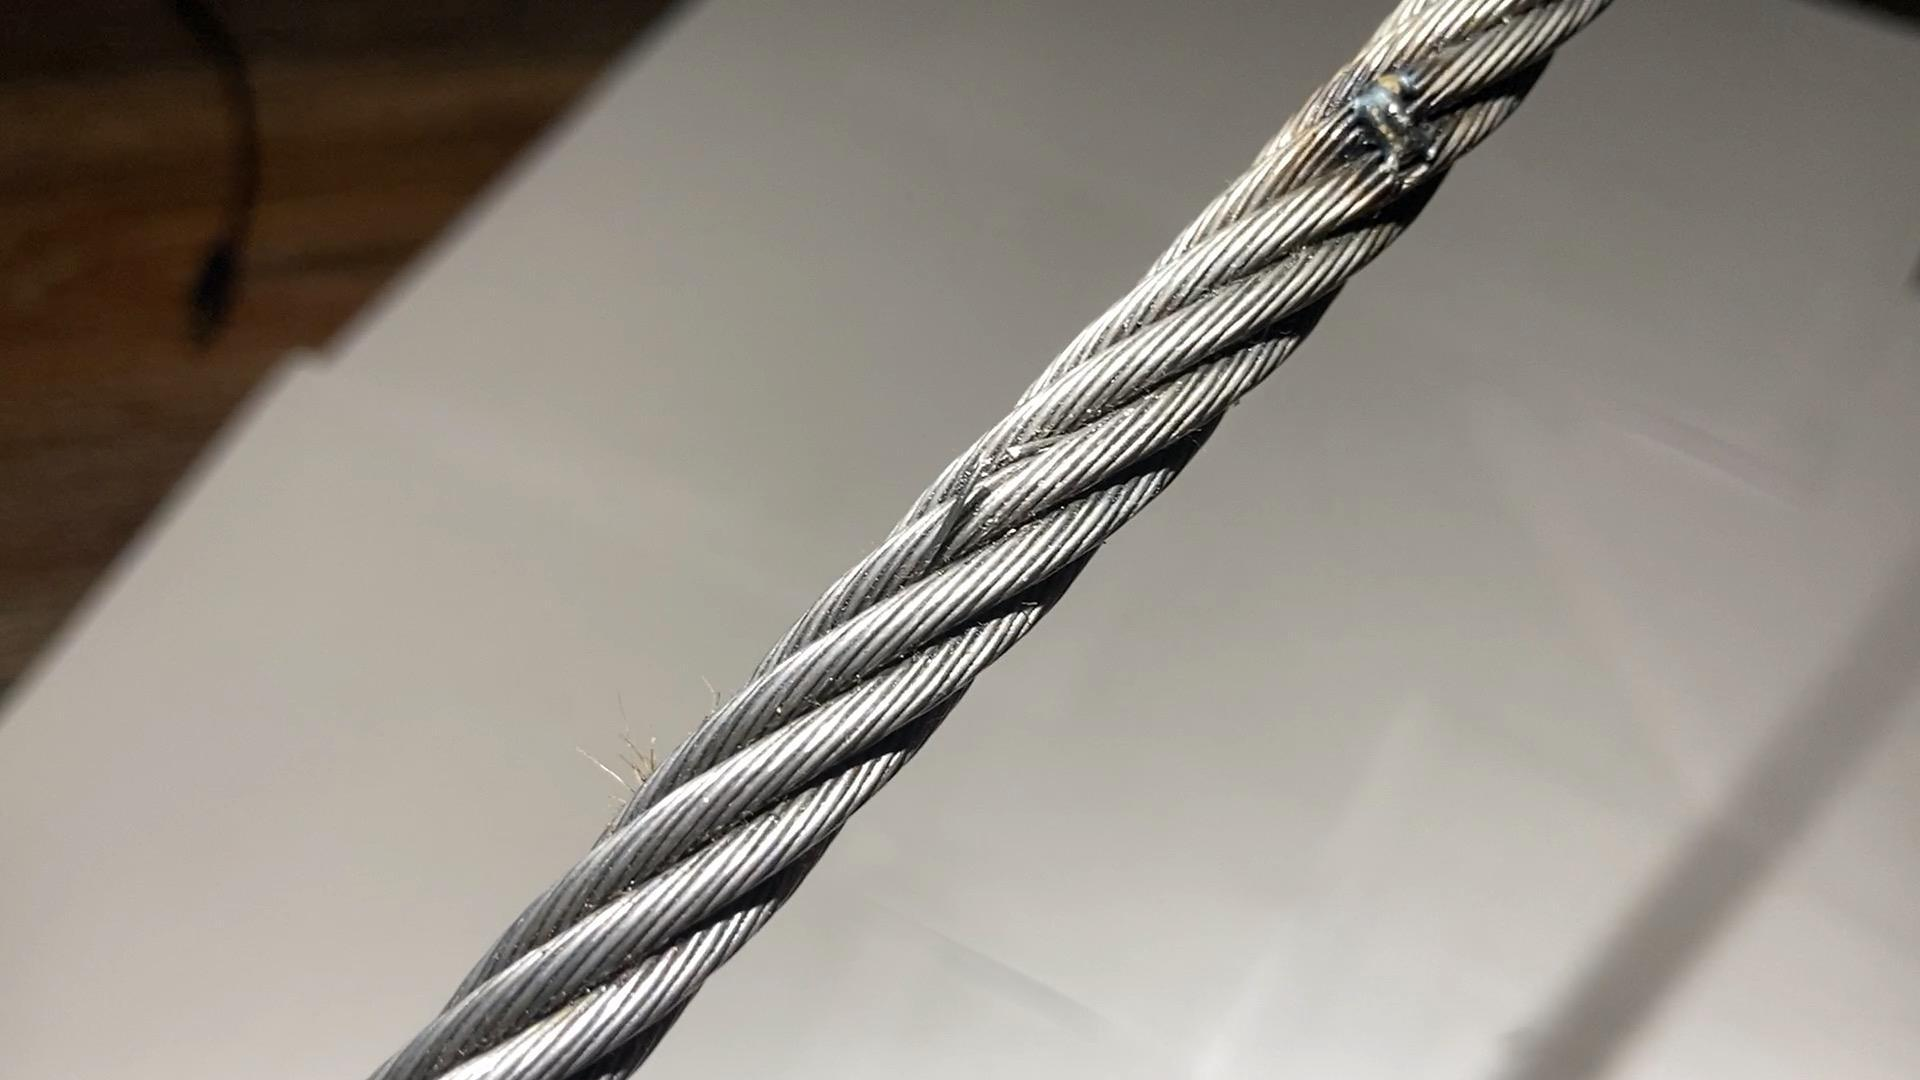break: (945, 427, 1031, 524)
thunderbolt: (1328, 61, 1461, 187)
